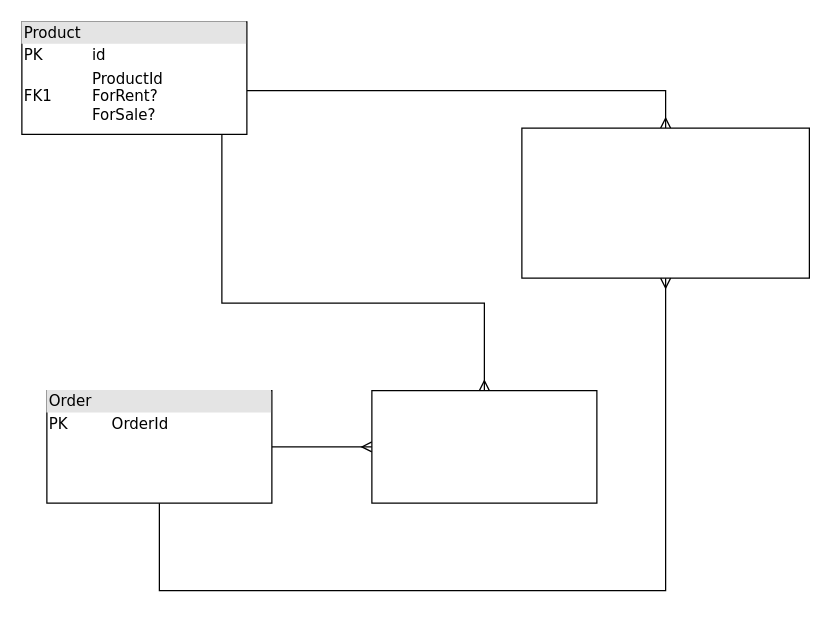
This 831x623 diagram has some shape labels left out. Each missing label, with the centre of its shape:
"OrderItem PK orderId FK1 productId" belongs at [484,446].
"OrderItemRent PK id FK1 ProductId OrderID start_date return_date returned?" belongs at [665,202].
